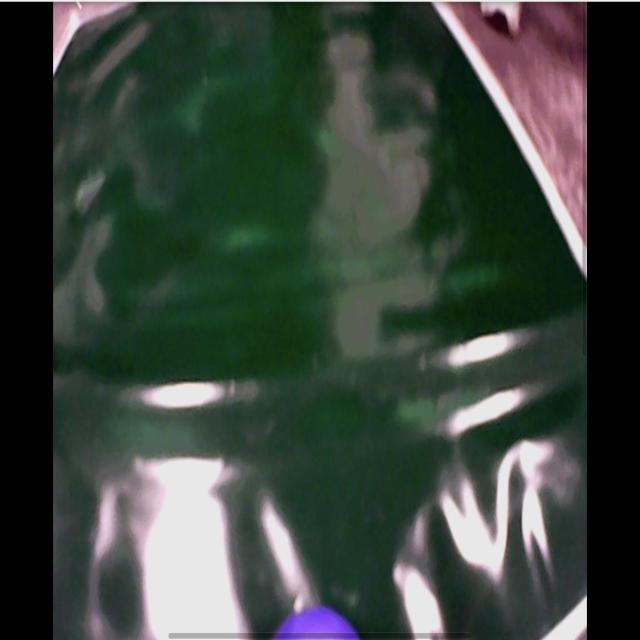ball: (270, 609, 364, 639)
